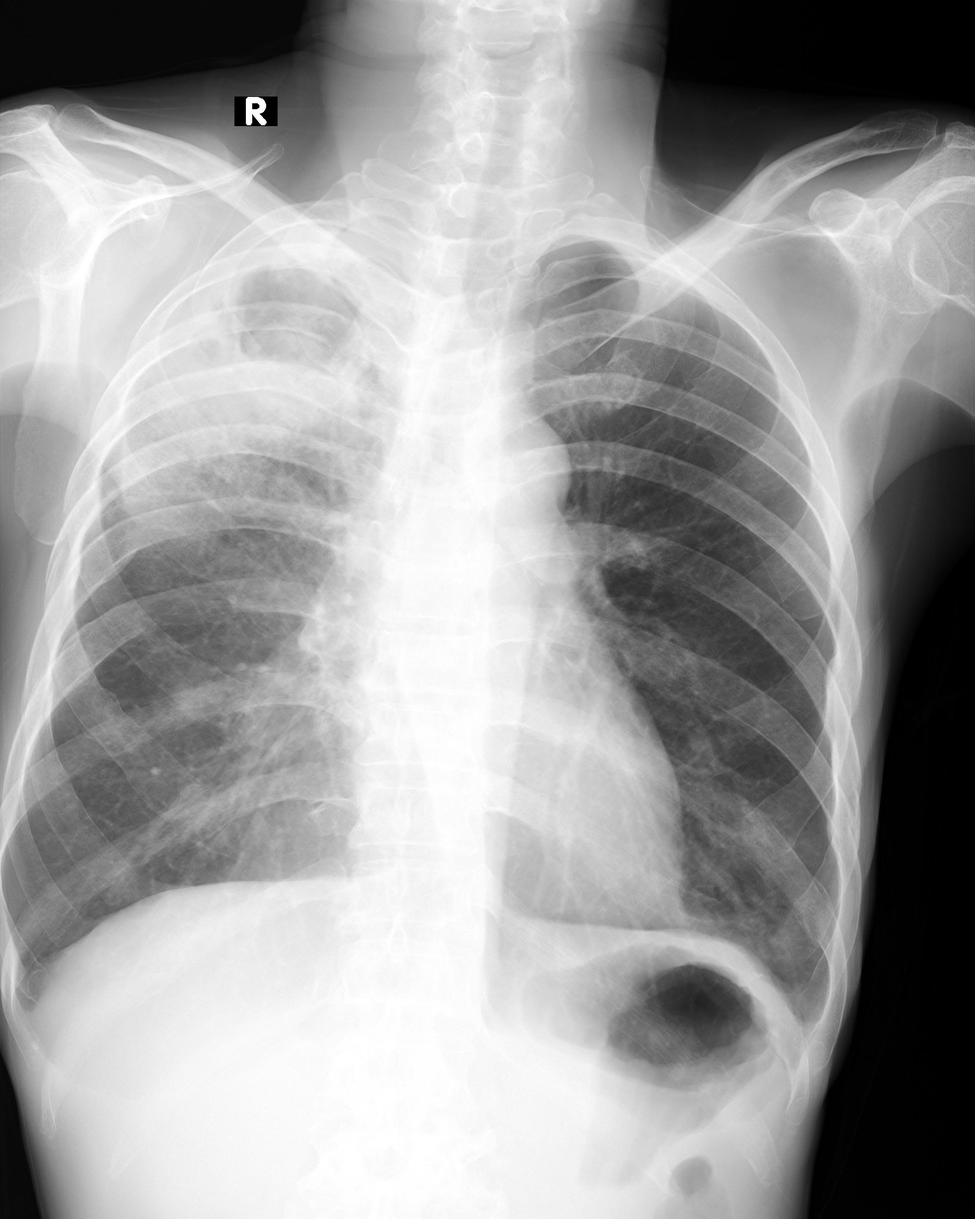Aortic enlargement: (449, 394, 575, 509)
Pleural thickening: (776, 982, 828, 1082), (2, 946, 40, 1039)
